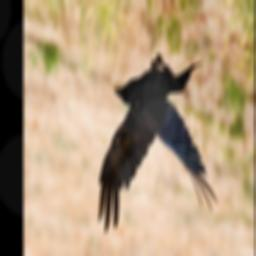Crow: (96, 51, 219, 235)
